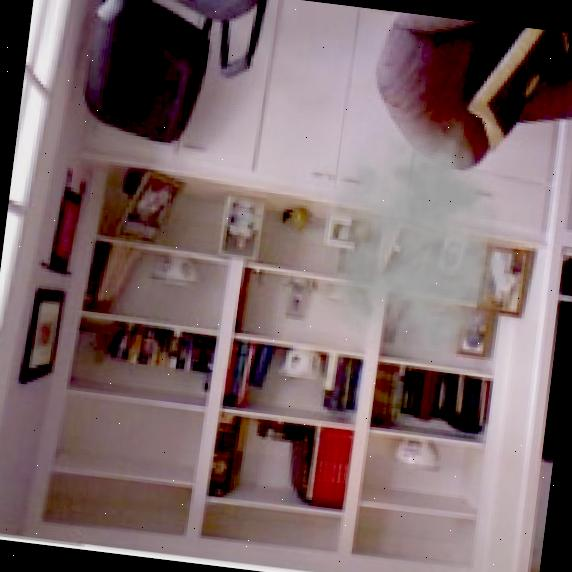smoke: (284, 91, 531, 382)
